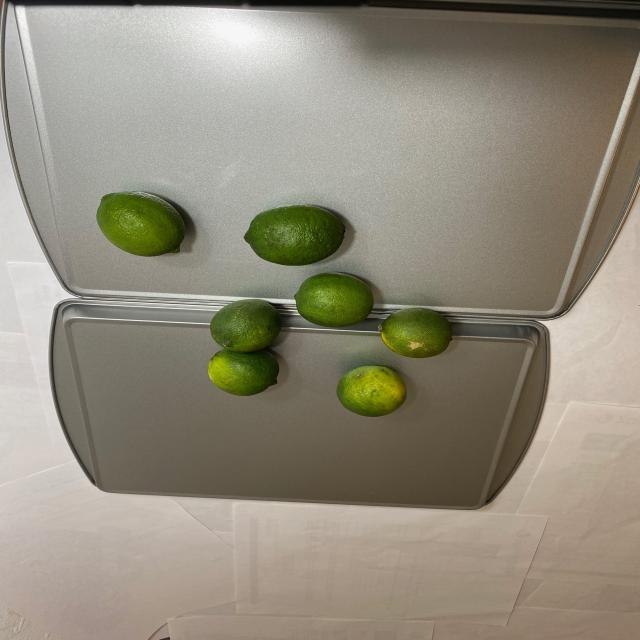lemon: (94, 182, 454, 421)
